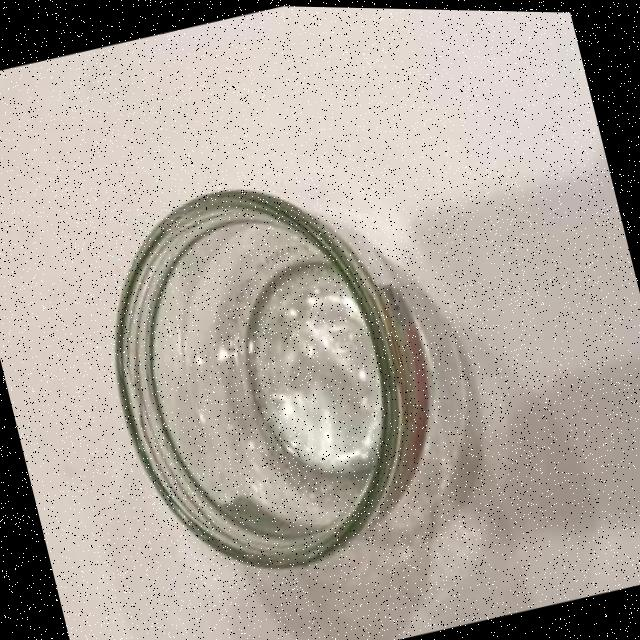glass: (68, 134, 482, 605)
